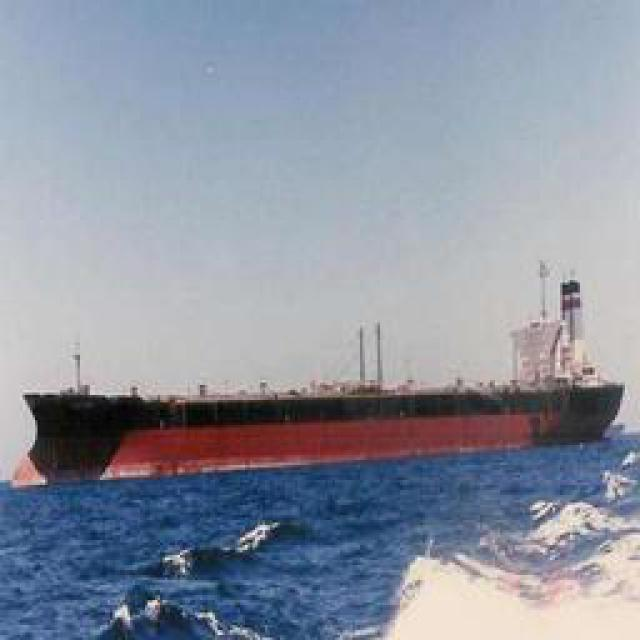Ship: (434, 267, 627, 447)
